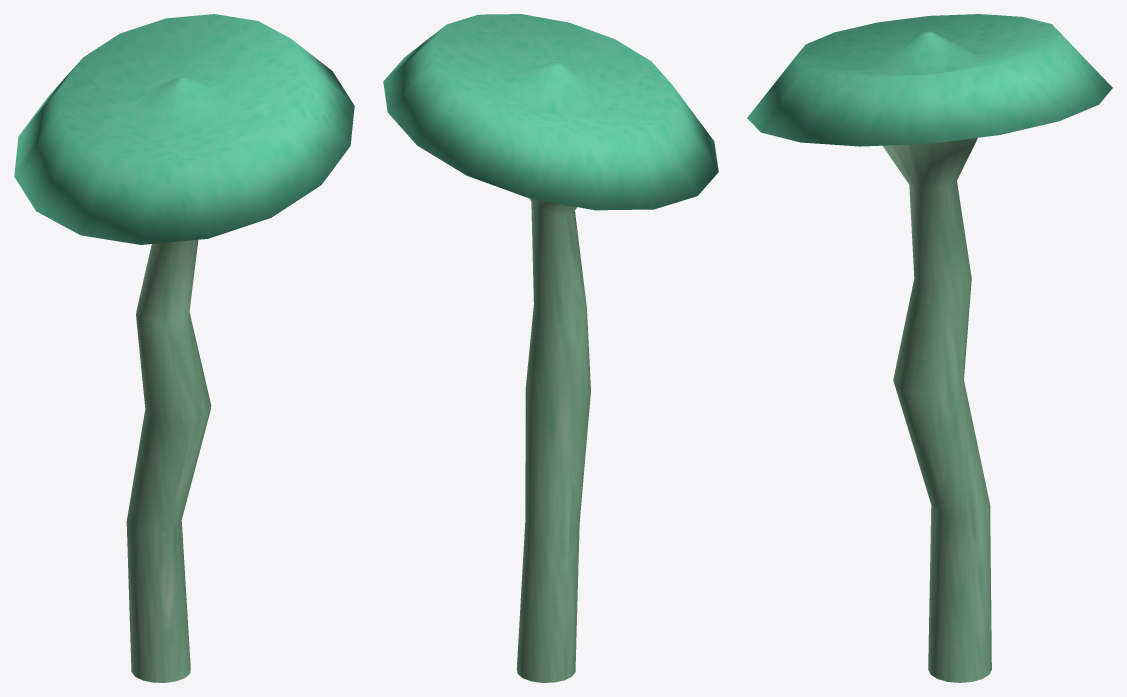
File: DwarfMushroom.obj
The picture shows the model from 3 angles, left to right: view 1: azimuth 30°, elevation 25°; view 2: azimuth 150°, elevation 25°; view 3: azimuth 270°, elevation 25°; orthographic projection. The views are drawn at different scales.
Visible parts, largest first — view 1: Plane; view 2: Plane; view 3: Plane.
Boxes of the visible parts, <box> form: Plane: <box>14,14,354,682</box>; Plane: <box>383,14,718,682</box>; Plane: <box>747,14,1112,682</box>.
Size of the model in its own units: 0.1933 by 0.3841 by 0.1942.
Materials: 2 (2 with a texture image).
